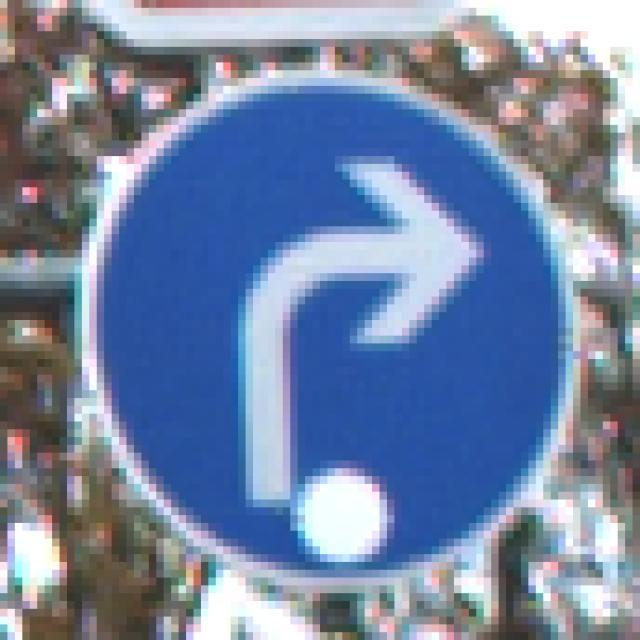compulsary turn right ahead: (58, 60, 598, 590)
